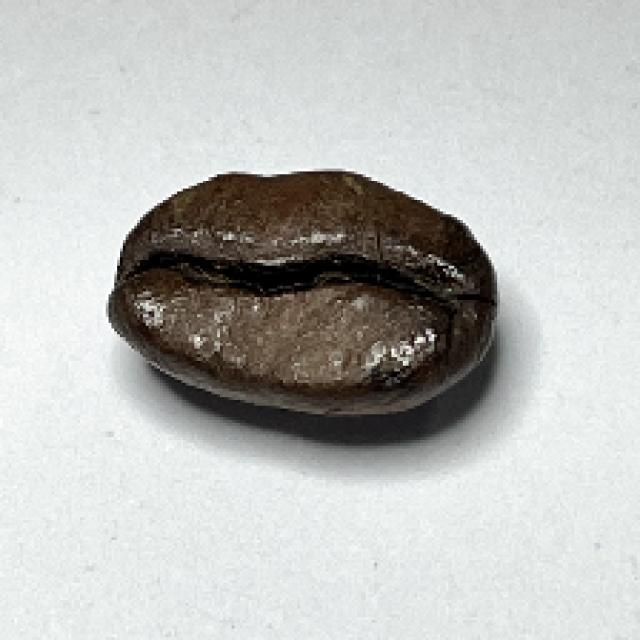bean: (105, 170, 498, 416)
